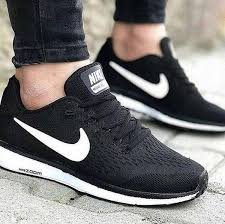nike: (11, 115, 92, 164), (106, 59, 170, 102)
